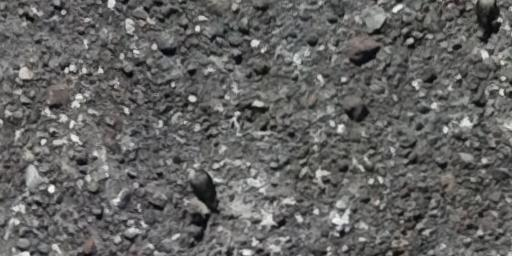skua: (178, 156, 226, 218)
